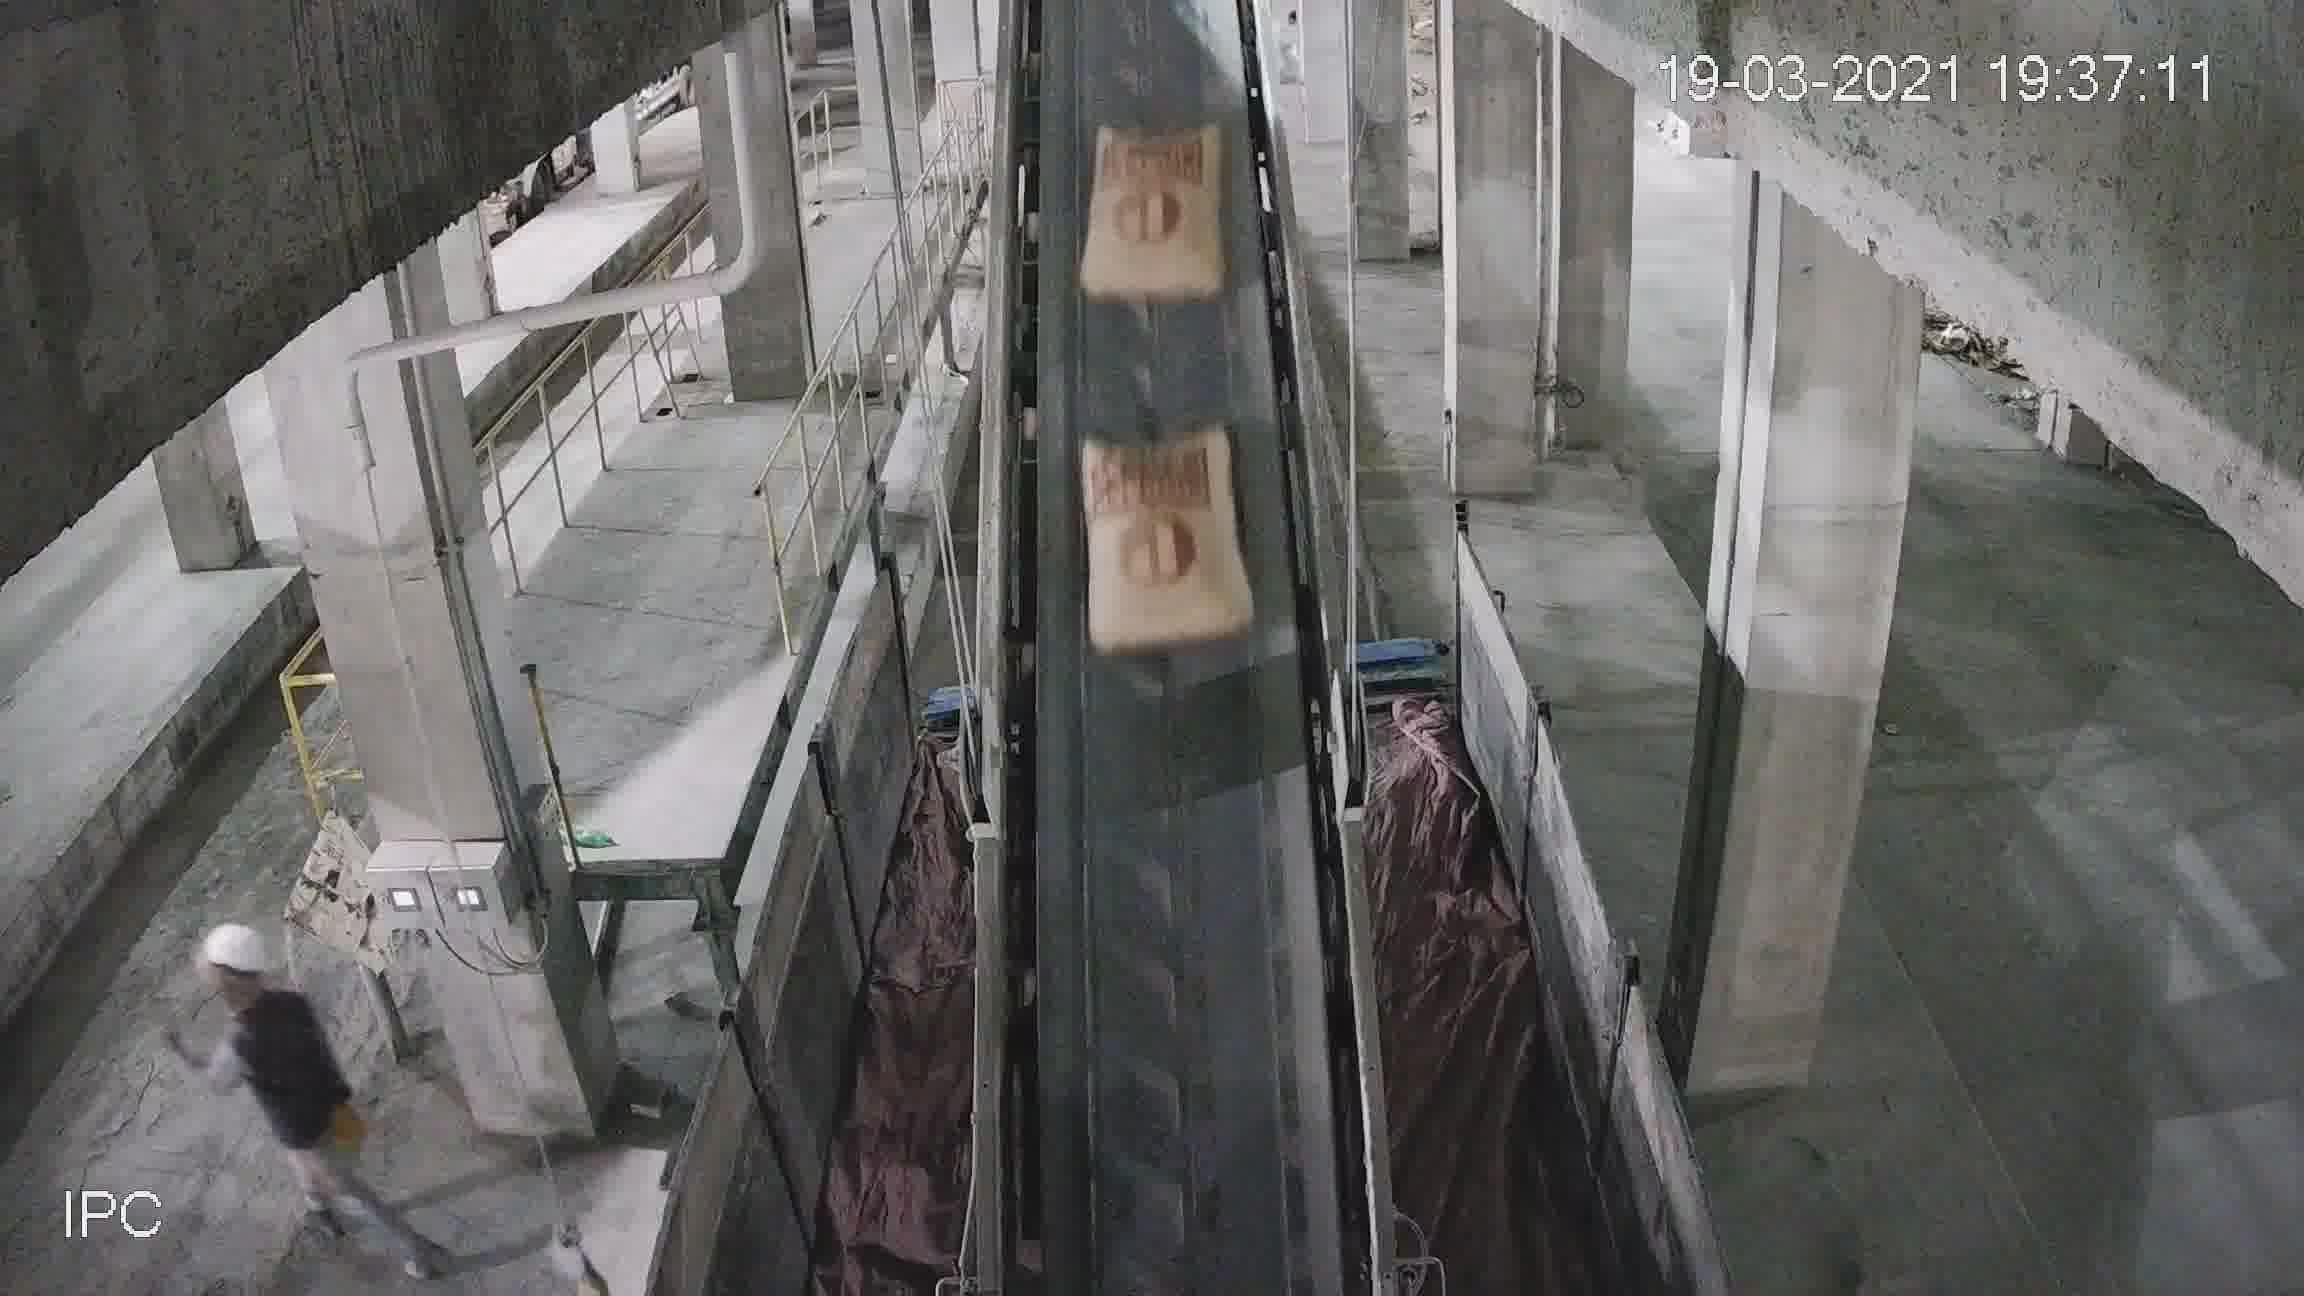bag: (1084, 434, 1244, 646), (1081, 138, 1231, 296)
belt: (984, 101, 1345, 1211)
